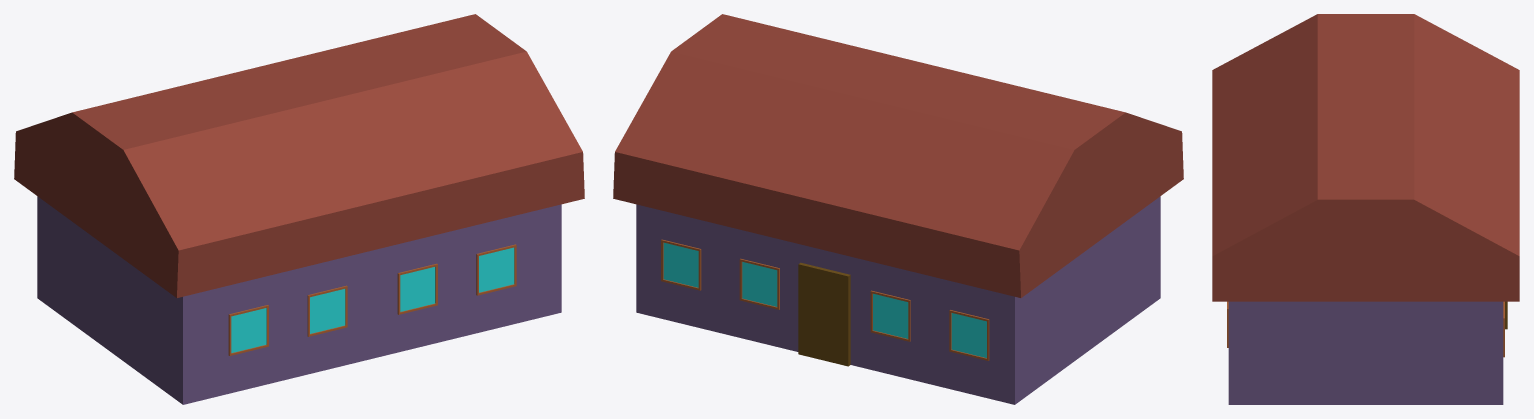
File: house1.fbx
The picture shows the model from 3 angles, left to right: view 1: azimuth 30°, elevation 25°; view 2: azimuth 150°, elevation 25°; view 3: azimuth 270°, elevation 25°; orthographic projection. The views are drawn at different scales.
Parts seen in each view (by area): view 1: House 1; view 2: House 1; view 3: House 1.
Boxes of the visible parts, box(x1,y1,x2,y2) form: House 1: box(14, 14, 584, 404); House 1: box(613, 14, 1183, 404); House 1: box(1212, 14, 1519, 404).
Bounding box in the file's own units: 323 × 169 × 223.
